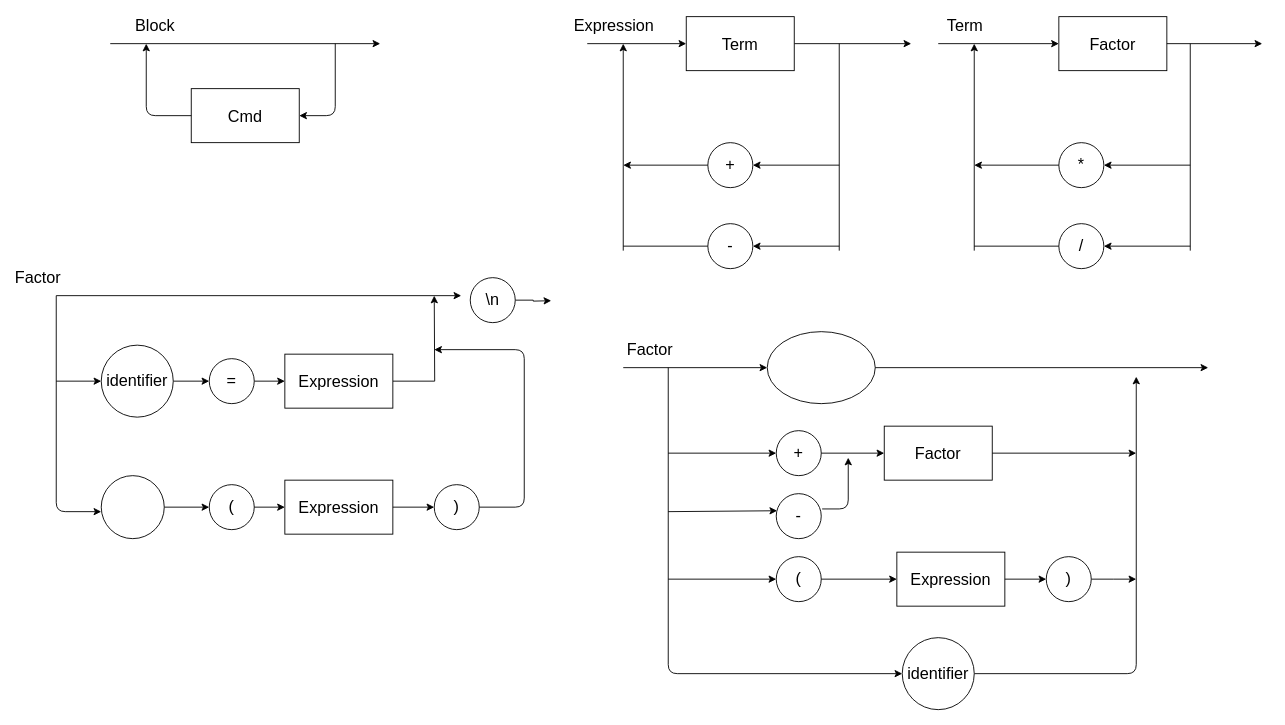
Some shapes in this 1285 by 725 pixel diagram are drawn without their labels. Each missing label, with the box of its shape:
Number: (766, 331, 875, 404)
printn: (100, 475, 164, 539)
